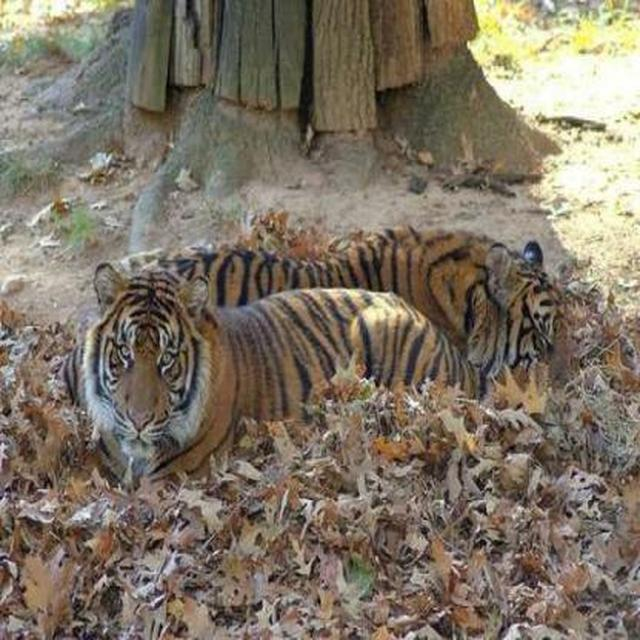tiger: (57, 259, 480, 492), (139, 221, 563, 405)
